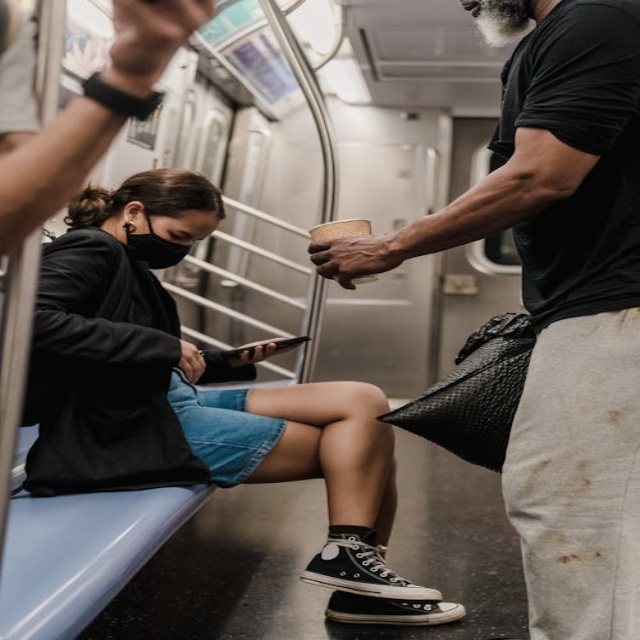Mascara: (123, 208, 194, 268)
Sin_gafas: (164, 223, 206, 243)
Sin_guantes: (100, 1, 218, 84), (306, 231, 393, 289), (231, 342, 277, 362), (181, 344, 206, 377)
Sin_mascara: (460, 1, 498, 21)
